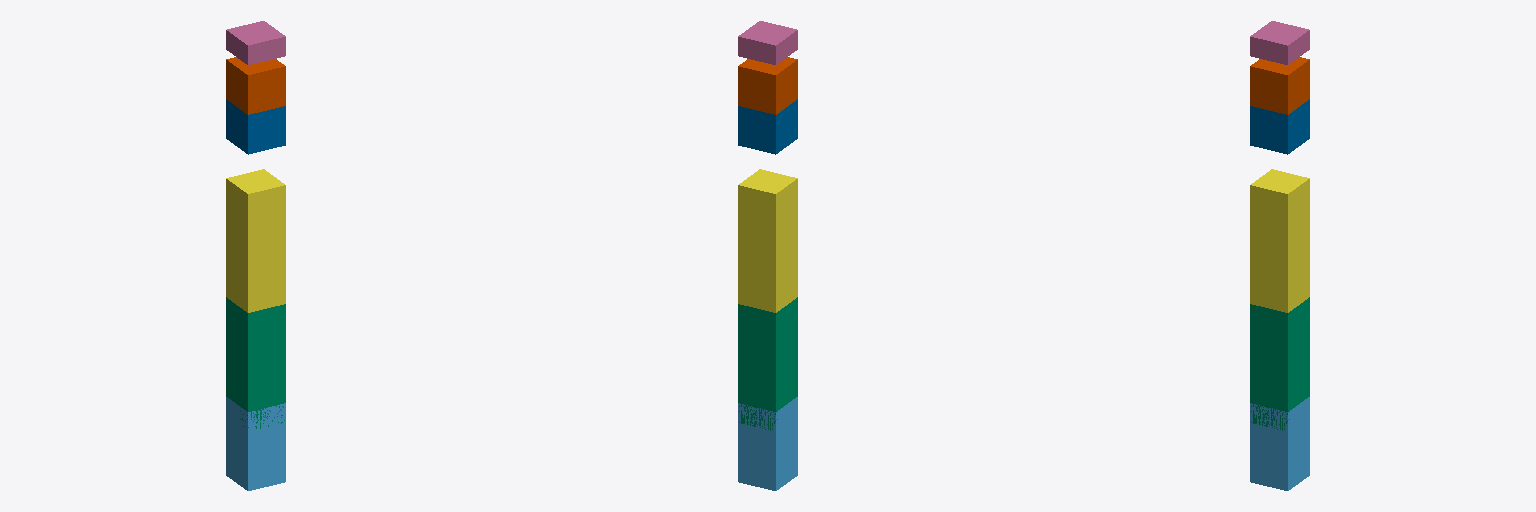
The robot description file, URDF, robot "serial_6dof":
<?xml version="1.0"?>
<robot name="serial_6dof">
  <link name="base_link">
    <inertial><mass value="1.0"/><inertia ixx="0.01" ixy="0" ixz="0" iyy="0.01" iyz="0" izz="0.01"/></inertial>
  </link>
  <link name="link1">
    <visual><geometry><box size="0.1 0.1 0.2"/></geometry></visual>
    <inertial><mass value="1.0"/><inertia ixx="0.01" ixy="0" ixz="0" iyy="0.01" iyz="0" izz="0.01"/></inertial>
  </link>
  <link name="link2">
    <visual><geometry><box size="0.1 0.1 0.3"/></geometry></visual>
    <inertial><mass value="1.0"/><inertia ixx="0.01" ixy="0" ixz="0" iyy="0.01" iyz="0" izz="0.01"/></inertial>
  </link>
  <link name="link3">
    <visual><geometry><box size="0.1 0.1 0.3"/></geometry></visual>
    <inertial><mass value="1.0"/><inertia ixx="0.01" ixy="0" ixz="0" iyy="0.01" iyz="0" izz="0.01"/></inertial>
  </link>
  <link name="link4">
    <visual><geometry><box size="0.1 0.1 0.1"/></geometry></visual>
    <inertial><mass value="1.0"/><inertia ixx="0.01" ixy="0" ixz="0" iyy="0.01" iyz="0" izz="0.01"/></inertial>
  </link>
  <link name="link5">
    <visual><geometry><box size="0.1 0.1 0.1"/></geometry></visual>
    <inertial><mass value="1.0"/><inertia ixx="0.01" ixy="0" ixz="0" iyy="0.01" iyz="0" izz="0.01"/></inertial>
  </link>
  <link name="link6">
    <visual><geometry><box size="0.1 0.1 0.05"/></geometry></visual>
    <inertial><mass value="1.0"/><inertia ixx="0.01" ixy="0" ixz="0" iyy="0.01" iyz="0" izz="0.01"/></inertial>
  </link>
  <joint name="joint1" type="revolute">
    <parent link="base_link"/><child link="link1"/>
    <origin xyz="0 0 0.1" rpy="0 0 0"/><axis xyz="0 0 1"/>
    <limit lower="-3.14" upper="3.14" effort="50" velocity="2"/>
  </joint>
  <joint name="joint2" type="revolute">
    <parent link="link1"/><child link="link2"/>
    <origin xyz="0 0 0.2" rpy="0 0 0"/><axis xyz="0 1 0"/>
    <limit lower="-2.0" upper="2.0" effort="50" velocity="2"/>
  </joint>
  <joint name="joint3" type="revolute">
    <parent link="link2"/><child link="link3"/>
    <origin xyz="0 0 0.3" rpy="0 0 0"/><axis xyz="0 1 0"/>
    <limit lower="-2.5" upper="2.5" effort="50" velocity="2"/>
  </joint>
  <joint name="joint4" type="revolute">
    <parent link="link3"/><child link="link4"/>
    <origin xyz="0 0 0.3" rpy="0 0 0"/><axis xyz="0 0 1"/>
    <limit lower="-3.14" upper="3.14" effort="20" velocity="3"/>
  </joint>
  <joint name="joint5" type="revolute">
    <parent link="link4"/><child link="link5"/>
    <origin xyz="0 0 0.1" rpy="0 0 0"/><axis xyz="0 1 0"/>
    <limit lower="-2.0" upper="2.0" effort="20" velocity="3"/>
  </joint>
  <joint name="joint6" type="revolute">
    <parent link="link5"/><child link="link6"/>
    <origin xyz="0 0 0.1" rpy="0 0 0"/><axis xyz="0 0 1"/>
    <limit lower="-3.14" upper="3.14" effort="10" velocity="4"/>
  </joint>
</robot>

--- Facts derived from the render (not from the file) ---
Views: 3 orthographic renders of the robot side by side, from view 1: azimuth 30°, elevation 25°; view 2: azimuth 150°, elevation 25°; view 3: azimuth 330°, elevation 25°.
Robot: serial_6dof — 7 links, 6 joints (6 revolute); root link base_link; default pose: all joints at 0.
Visible links, largest first — view 1: link3, link2, link1, link5, link4, link6; view 2: link3, link2, link1, link5, link4, link6; view 3: link3, link2, link1, link5, link4, link6.
Link boxes in pixels (bbox=[...]): link3: bbox=[226, 169, 285, 312]; link2: bbox=[226, 297, 285, 428]; link1: bbox=[226, 397, 285, 490]; link5: bbox=[226, 57, 285, 114]; link4: bbox=[226, 99, 285, 154]; link6: bbox=[226, 21, 285, 64]; link3: bbox=[738, 169, 797, 312]; link2: bbox=[738, 297, 797, 430]; link1: bbox=[738, 397, 797, 490]; link5: bbox=[738, 57, 797, 114]; link4: bbox=[738, 99, 797, 154]; link6: bbox=[738, 21, 797, 64]; link3: bbox=[1250, 169, 1309, 312]; link2: bbox=[1250, 297, 1309, 430]; link1: bbox=[1250, 397, 1309, 490]; link5: bbox=[1250, 57, 1309, 114]; link4: bbox=[1250, 99, 1309, 154]; link6: bbox=[1250, 21, 1309, 64].
Bounding box of the posed robot: 0.1 × 0.1 × 1.12 m (x, y, z).
Geometry: primitives only (box / cylinder / sphere), no mesh files.
